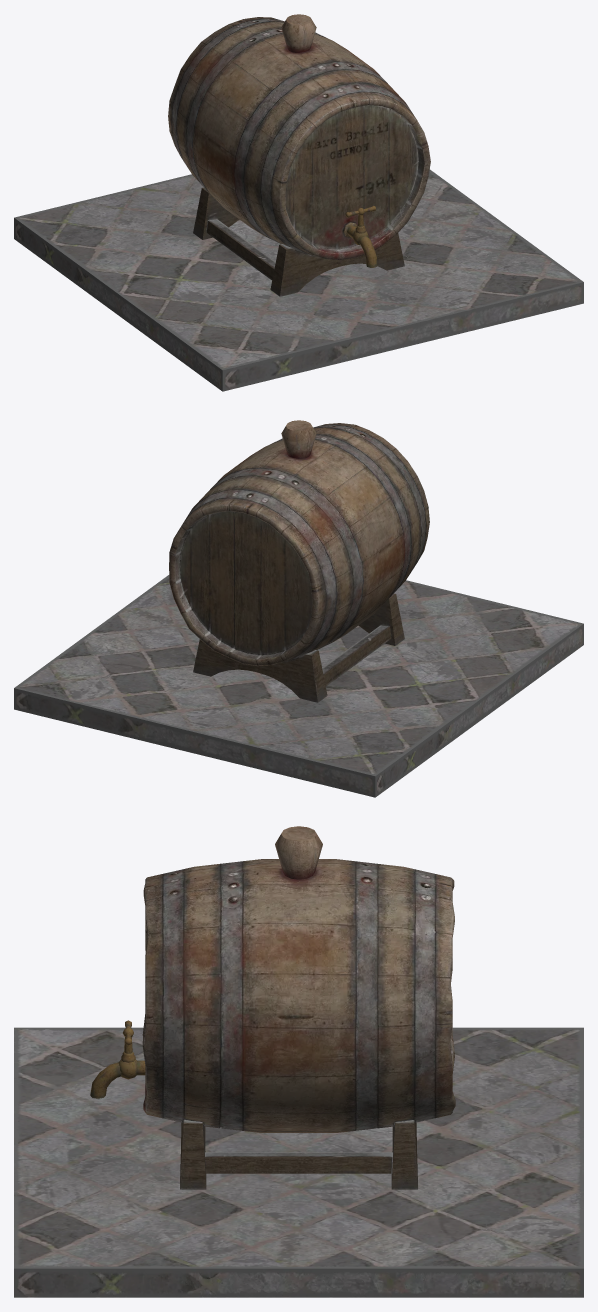
Rendered from wine_barrel.glb.
3 views of the same model, one above another, from view 1: azimuth 30°, elevation 25°; view 2: azimuth 150°, elevation 25°; view 3: azimuth 270°, elevation 25° (orthographic). The views are drawn at different scales.
Visible parts, largest first — view 1: tile_tile_0, wine_barrel_wine_barrel_0; view 2: tile_tile_0, wine_barrel_wine_barrel_0; view 3: tile_tile_0, wine_barrel_wine_barrel_0.
Part boxes in pixels (box(x1,y1,x2,y2)): tile_tile_0: box(14, 169, 583, 391); wine_barrel_wine_barrel_0: box(168, 14, 430, 296); tile_tile_0: box(14, 575, 583, 797); wine_barrel_wine_barrel_0: box(169, 420, 429, 702); tile_tile_0: box(14, 1027, 583, 1297); wine_barrel_wine_barrel_0: box(90, 826, 455, 1189).
Bounding box in the file's own units: 1 × 0.665 × 1.
Materials: 2 (2 with a texture image).
